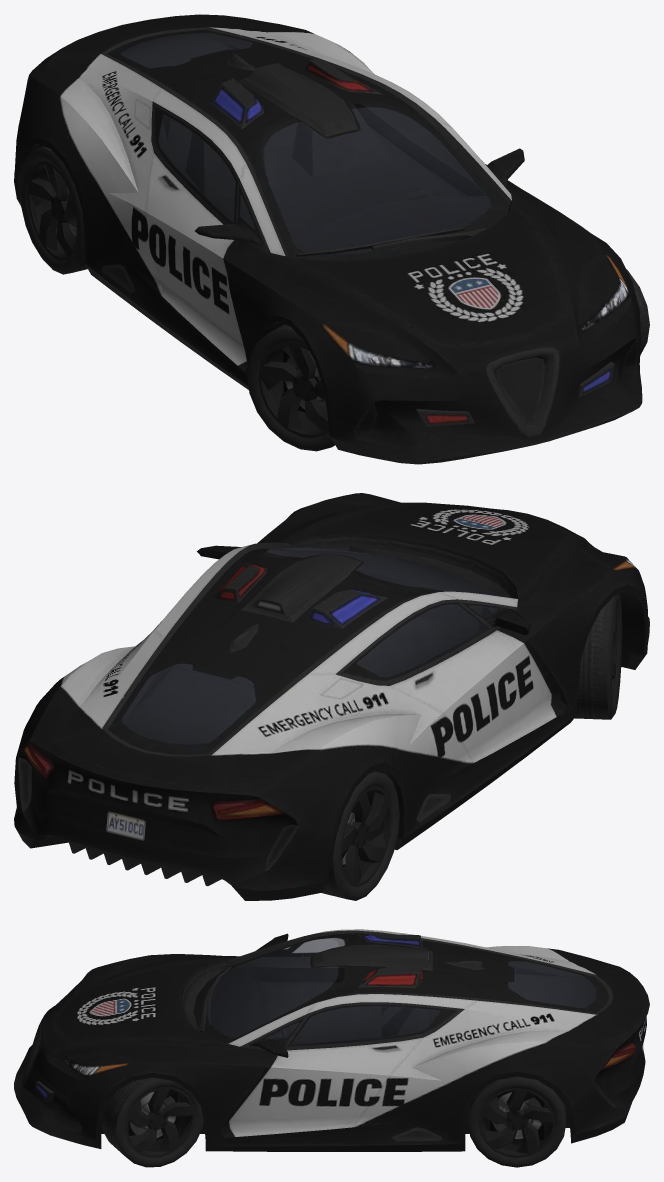
Rendered from zet-one-concept-police-v-1-c4438f.glb.
The picture shows the model from 3 angles, top to bottom: view 1: azimuth 30°, elevation 25°; view 2: azimuth 150°, elevation 25°; view 3: azimuth 270°, elevation 25°; orthographic projection. The views are drawn at different scales.
Visible parts, largest first — view 1: body, wheel-back-right, wheel-front-right; view 2: body, wheel-back-right; view 3: body, wheel-back-left, wheel-front-left.
Boxes of the visible parts, x1,y1,x2,y2 form: body: (14, 14, 649, 464); wheel-back-right: (20, 147, 84, 274); wheel-front-right: (282, 347, 328, 431); body: (14, 493, 649, 900); wheel-back-right: (333, 772, 399, 900); body: (14, 929, 649, 1154); wheel-back-left: (468, 1078, 566, 1167); wheel-front-left: (115, 1078, 203, 1167).
Bounding box in the file's own units: 2.39 × 1.36 × 4.91.
Materials: 3 (3 with a texture image).
